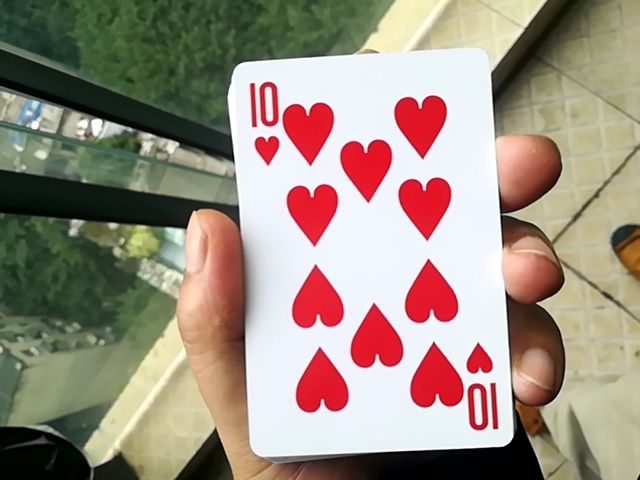hx 10: (220, 33, 511, 449)
